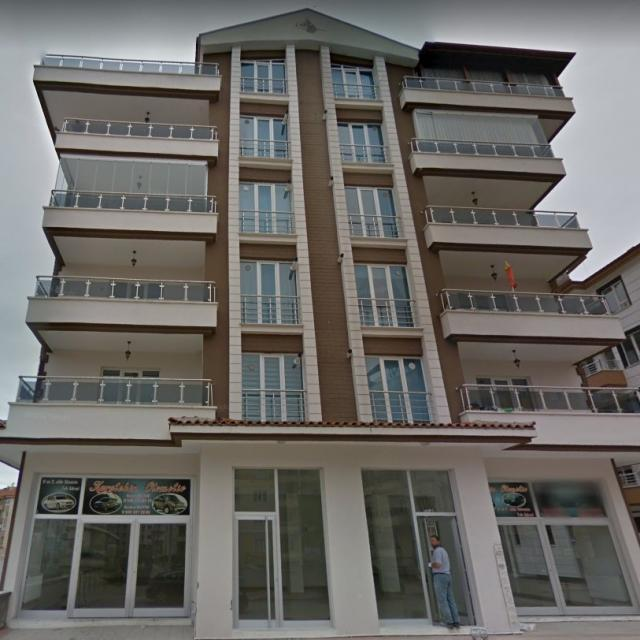Building: (0, 8, 640, 638)
